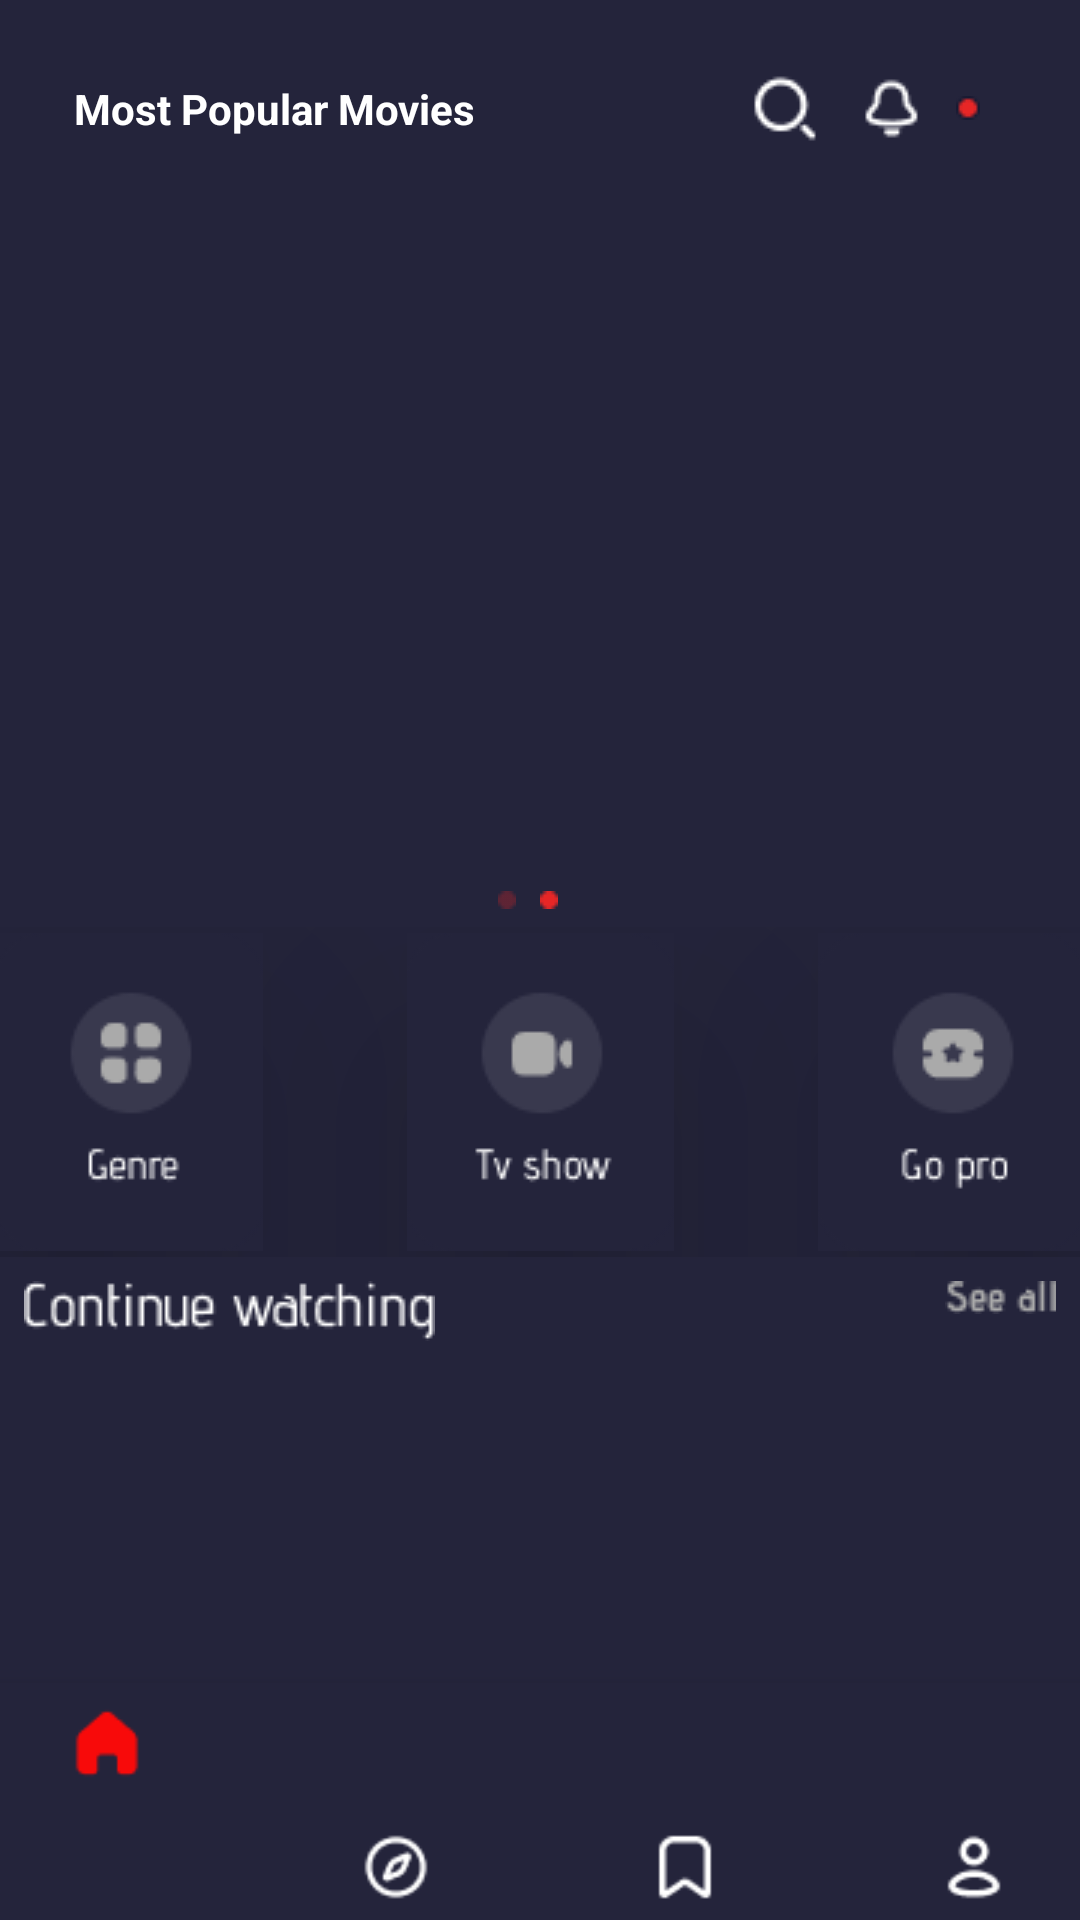

Icons on this 1080×1920 Android screen, each with its box as (x1, y1, x2, y2):
notification: (865, 79, 918, 138)
search: (754, 76, 816, 141)
